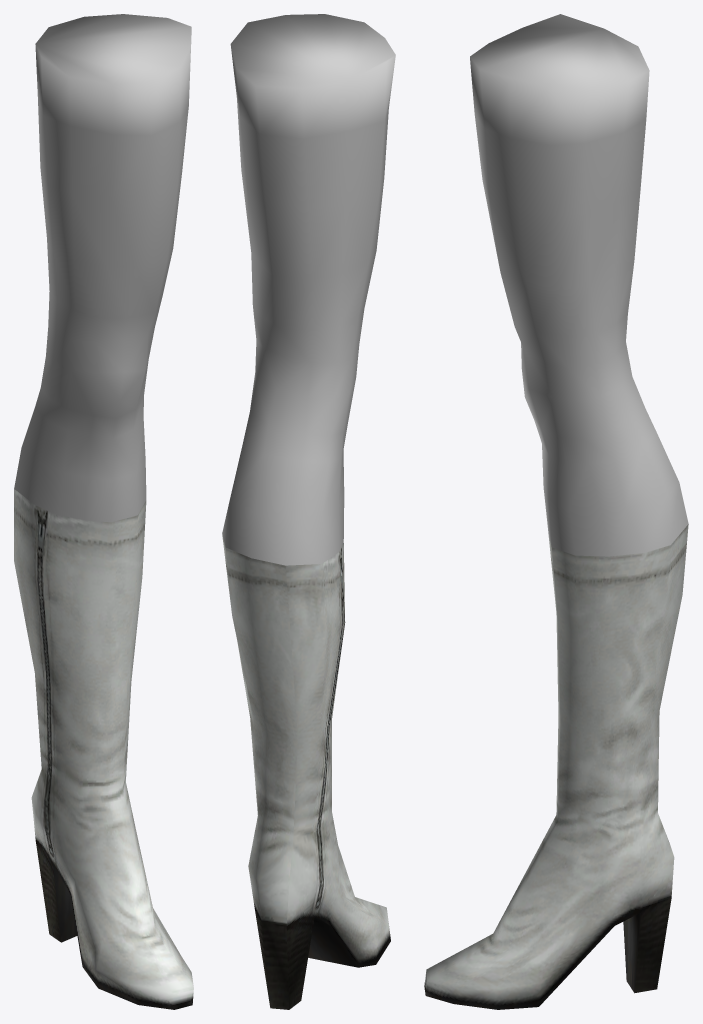
File: Leg.fbx
3 renders of one model, left to right at view 1: azimuth 30°, elevation 25°; view 2: azimuth 150°, elevation 25°; view 3: azimuth 270°, elevation 25°, orthographic. The views are drawn at different scales.
Visible parts, largest first — view 1: body, boot; view 2: body, boot; view 3: body, boot.
Part boxes in pixels (<box>): body: <box>14,14,191,522</box>; boot: <box>14,489,193,1009</box>; body: <box>222,14,395,565</box>; boot: <box>222,535,390,1009</box>; body: <box>470,14,688,556</box>; boot: <box>424,524,688,1009</box>.
Bounding box in the file's own units: 586 × 3588 × 913.
